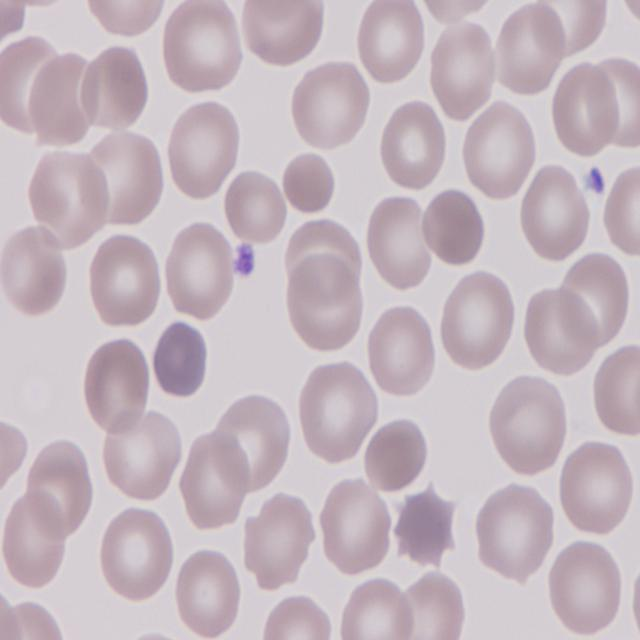Platelets: (232, 246, 260, 284)
RBC: (297, 360, 382, 470), (485, 370, 568, 480), (437, 268, 522, 374), (100, 402, 186, 506), (459, 100, 542, 206), (472, 482, 558, 584), (558, 439, 640, 542), (316, 473, 396, 578), (96, 501, 176, 606), (160, 0, 246, 97), (164, 96, 242, 202), (180, 426, 255, 534), (28, 144, 110, 242), (547, 538, 625, 640), (89, 129, 168, 229), (290, 60, 372, 156), (516, 164, 592, 267), (86, 232, 165, 331), (161, 218, 236, 322), (492, 1, 570, 100), (286, 260, 364, 358), (428, 18, 502, 121), (363, 300, 437, 400), (282, 213, 366, 301), (246, 490, 318, 592), (520, 283, 598, 377), (1, 488, 70, 594), (548, 60, 620, 161), (560, 252, 634, 350), (364, 196, 436, 296), (82, 336, 154, 436), (380, 98, 452, 193), (173, 548, 246, 640), (0, 228, 71, 320), (356, 0, 431, 87), (84, 41, 154, 132), (236, 0, 326, 69), (392, 490, 460, 570), (223, 170, 287, 250), (364, 412, 427, 492), (337, 574, 413, 640), (397, 572, 467, 640), (592, 342, 640, 441), (594, 53, 640, 151), (599, 162, 640, 261), (542, 0, 608, 59), (257, 593, 336, 640), (85, 0, 170, 40), (630, 540, 640, 640), (613, 0, 640, 32), (113, 632, 194, 640)
Spherocyte: (419, 186, 488, 272), (150, 320, 210, 404), (280, 147, 340, 217)
